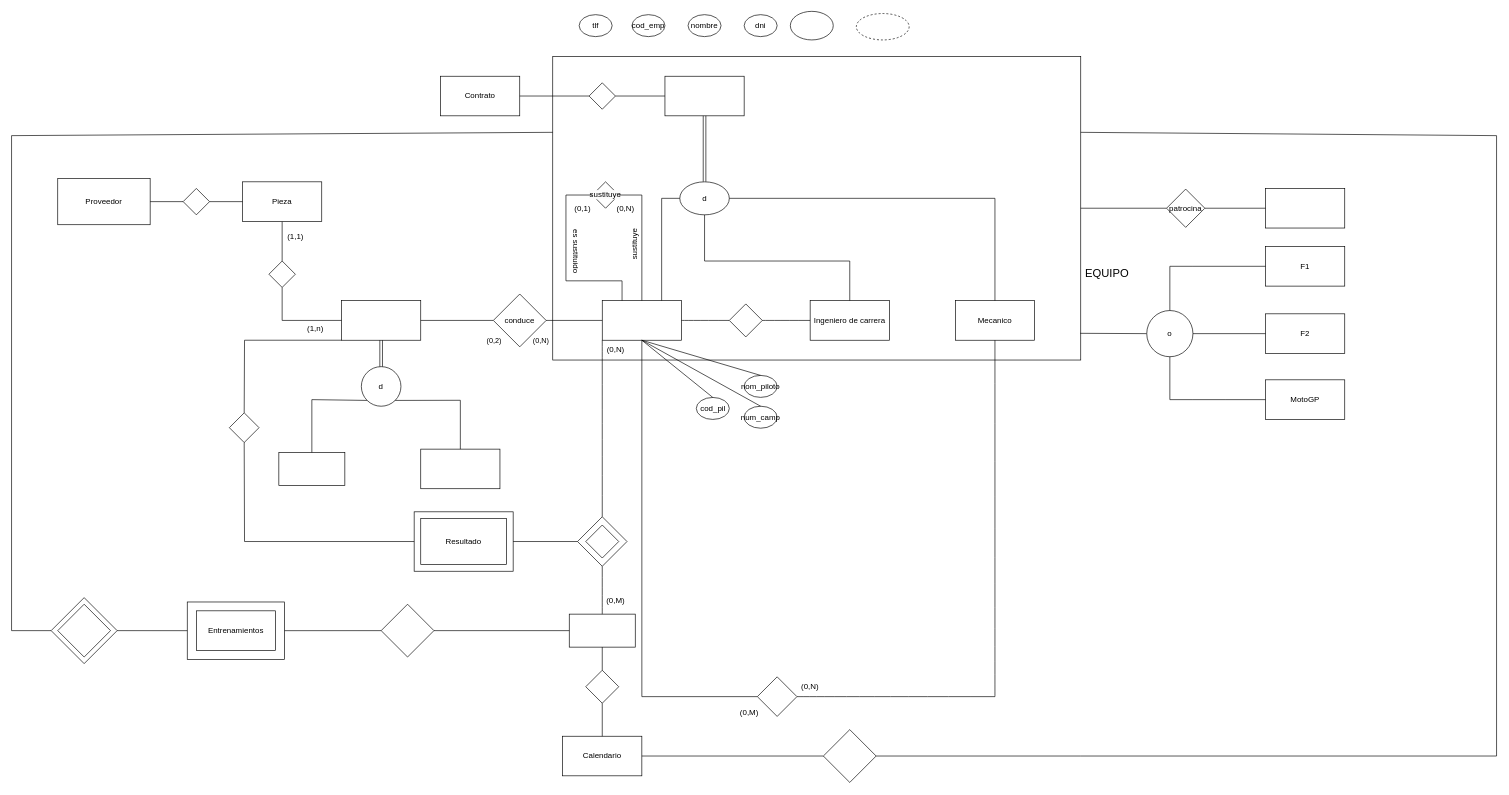
Image size: 1509x795. Some labels were removed from this diagram. Each missing label, with the centre of its shape:
"Carrera" goes at (x=602, y=630).
"Coche" goes at (x=460, y=468).
"compite" goes at (x=602, y=541).
"edad" goes at (x=882, y=26).
"Empleado" goes at (x=704, y=96).
"fecha_nac" goes at (x=811, y=25).
"Moto" goes at (x=311, y=468).
"Patrocinadores" goes at (x=1305, y=208).
"Piloto" goes at (x=641, y=320).
"Vehiculo" goes at (x=381, y=320).
